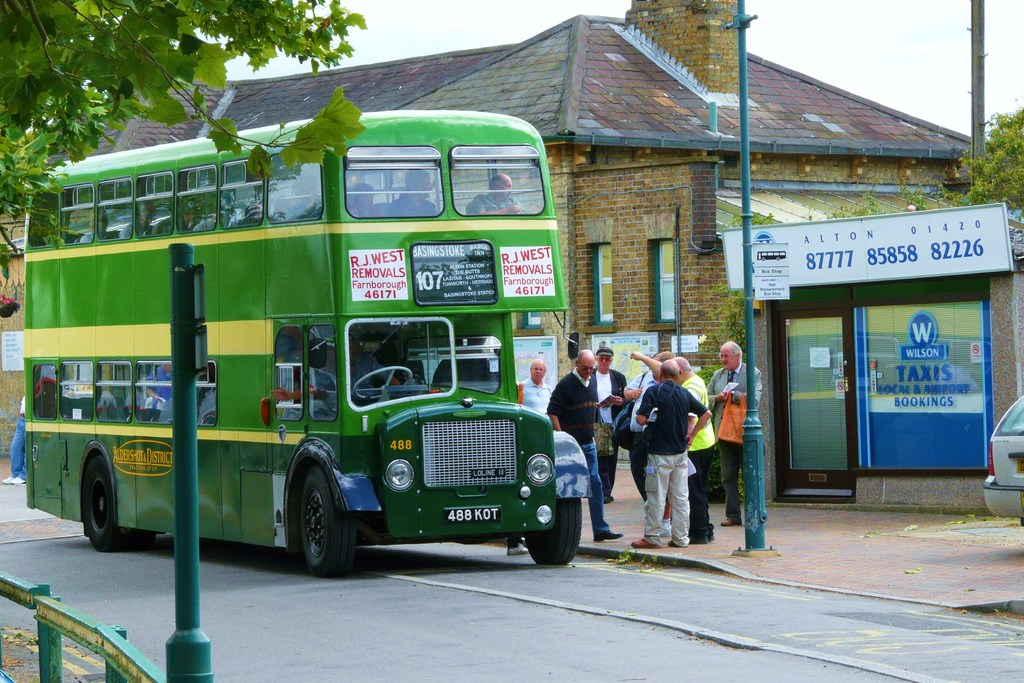Bus: (22, 110, 597, 574)
